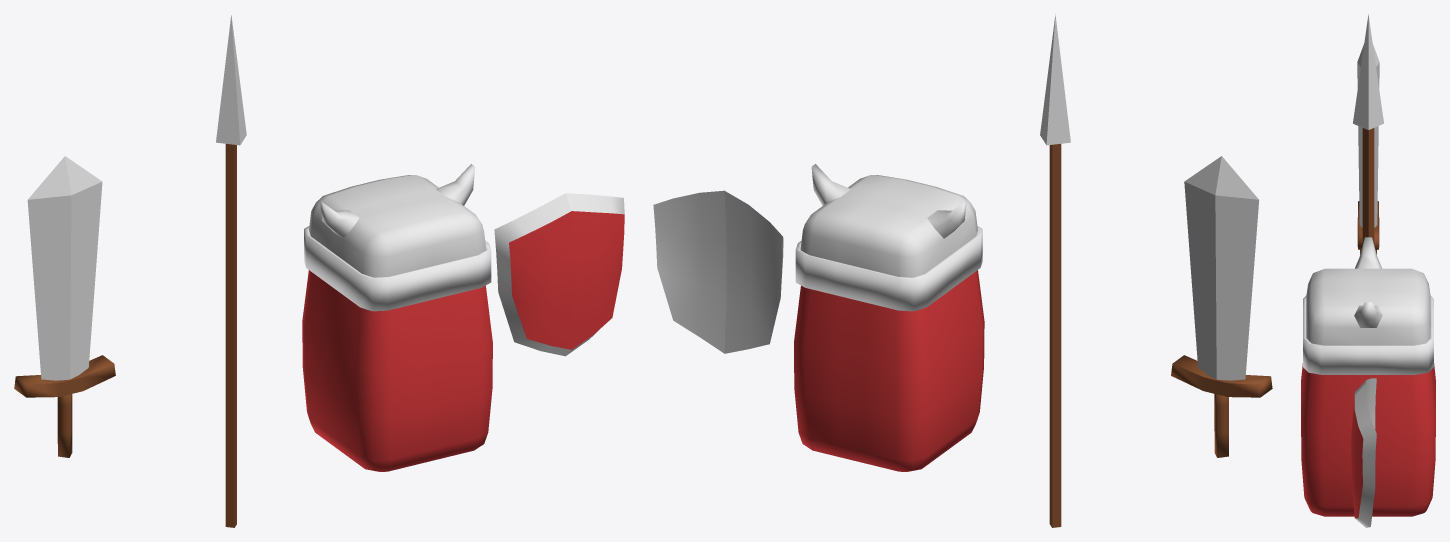
Rendered from TowerDefense_Enemy.fbx.
3 views of the same model, side by side, from view 1: azimuth 30°, elevation 25°; view 2: azimuth 150°, elevation 25°; view 3: azimuth 270°, elevation 25° (orthographic). The views are drawn at different scales.
Visible parts, largest first — view 1: EnemyBlob, Helmet, Shield, Sword, Spear; view 2: EnemyBlob, Helmet, Shield, Sword, Spear; view 3: EnemyBlob, Helmet, Spear, Shield, Sword.
Boxes of the visible parts, x1=… form: EnemyBlob: x1=302, y1=270, x2=492, y2=471; Helmet: x1=304, y1=164, x2=491, y2=311; Shield: x1=494, y1=193, x2=624, y2=356; Sword: x1=14, y1=156, x2=115, y2=457; Spear: x1=216, y1=15, x2=246, y2=527; EnemyBlob: x1=794, y1=270, x2=984, y2=471; Helmet: x1=795, y1=164, x2=982, y2=311; Shield: x1=653, y1=190, x2=783, y2=353; Sword: x1=1171, y1=156, x2=1272, y2=457; Spear: x1=1040, y1=14, x2=1070, y2=527; EnemyBlob: x1=1301, y1=363, x2=1435, y2=516; Helmet: x1=1303, y1=237, x2=1433, y2=374; Spear: x1=1353, y1=14, x2=1383, y2=244; Shield: x1=1351, y1=378, x2=1376, y2=527; Sword: x1=1357, y1=43, x2=1379, y2=254.
Size of the model in its own units: 549 by 441 by 120.
